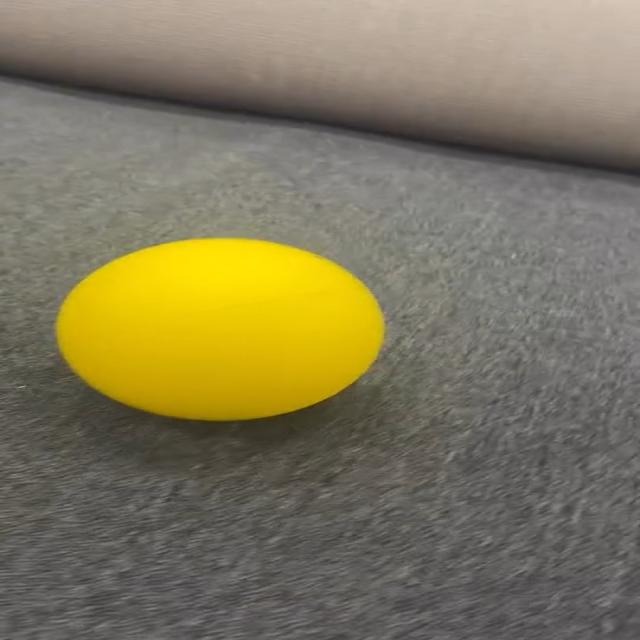Fuels: (58, 239, 384, 419)
